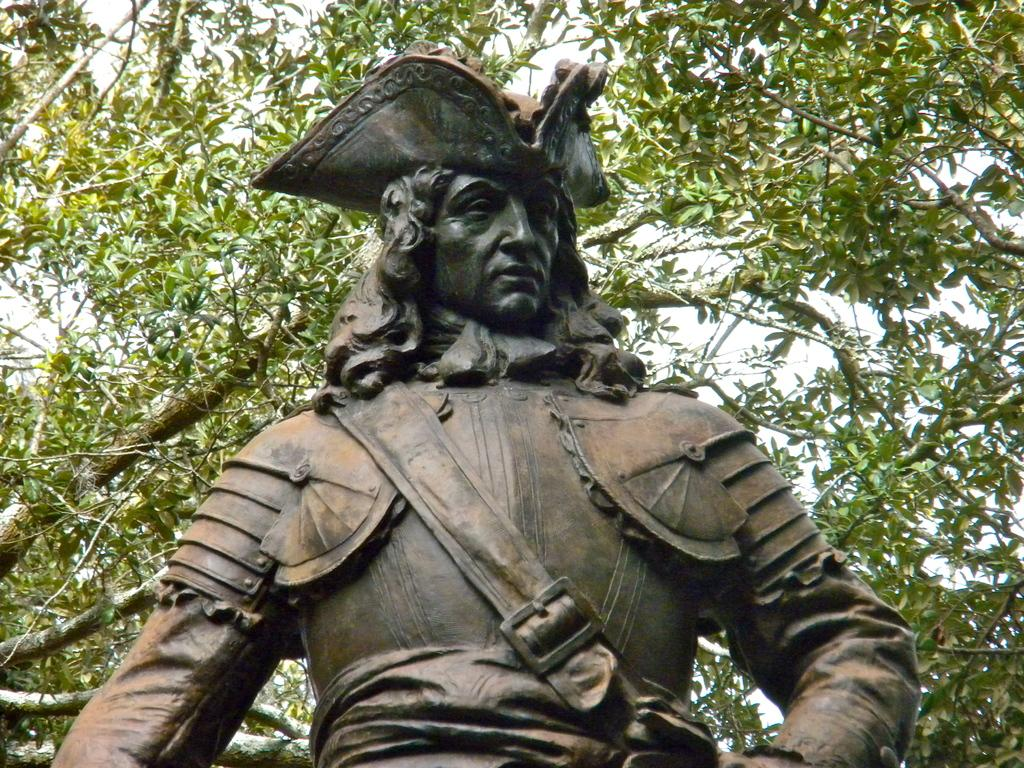Hat: (250, 43, 610, 219)
